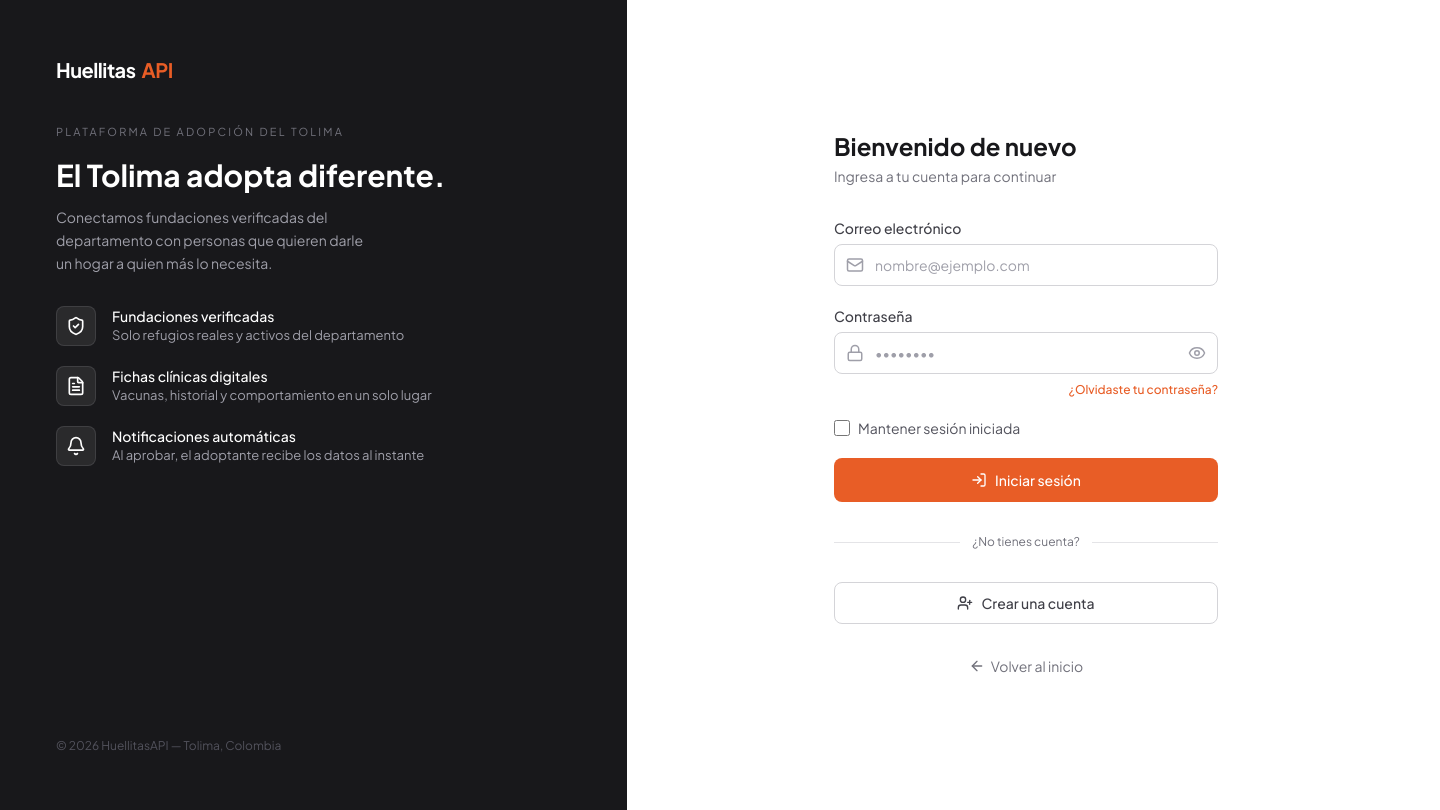
Test case: LoginPage › toggles password visibility
Click the button named "Mostrar contraseña". click: (1197, 353)
box: 1188,344 -> 1206,362
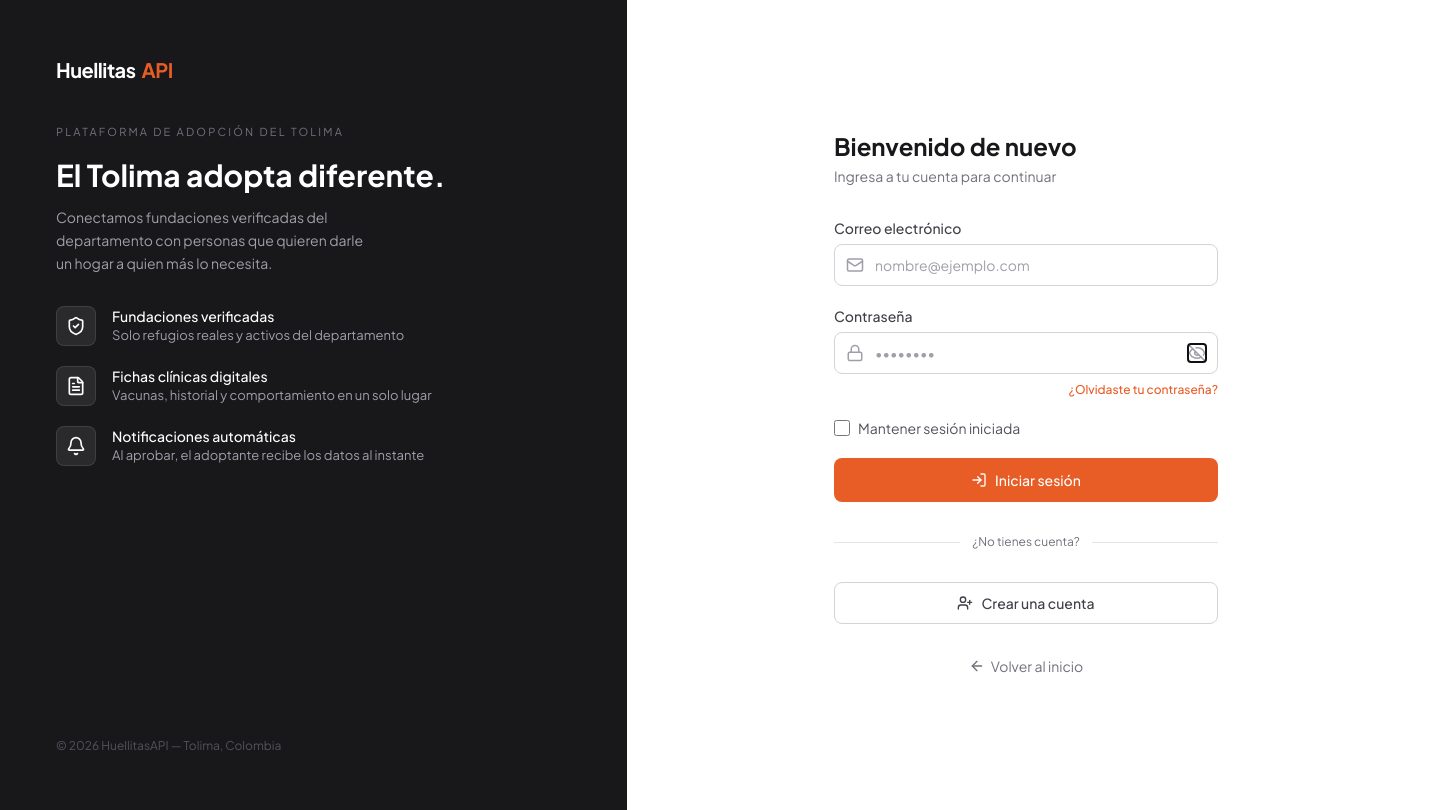
Check: the button named "Ocultar contraseña" is shown, box 1188,344 -> 1206,362
